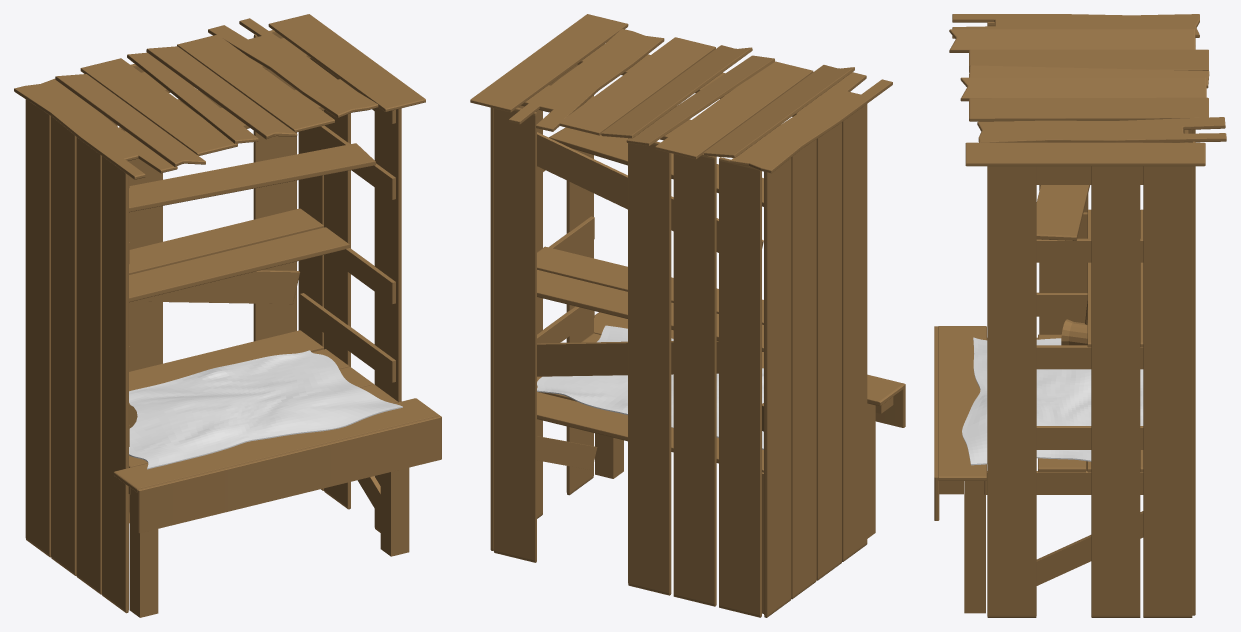
Rendered from Mesa_de_ferramentas.fbx.
3 renders of one model, left to right at view 1: azimuth 30°, elevation 25°; view 2: azimuth 150°, elevation 25°; view 3: azimuth 270°, elevation 25°, orthographic. The views are drawn at different scales.
Parts seen in each view (by area): view 1: Plane.052, Plane.019, Plane.003, Plane.057, Plane.056, Plane.055, Plane.077, Plane.058, Plane.043, Plane.018, Plane.036, Plane.034 (+18 smaller); view 2: Plane.041, Plane.001, Plane.042, Plane.075, Plane.057, Plane.056, Plane.055, Plane.003, Plane.036, Plane.034, Plane.032, Plane.035 (+21 smaller); view 3: Plane.058, Plane.059, Plane.060, Plane.052, Plane.036, Plane.018, Plane.035, Plane.034, Plane.031, Plane.054, Plane.032, Plane (+17 smaller).
Boxes of the visible parts, <box> form: Plane.052: <box>129,350,402,469</box>; Plane.019: <box>137,415,441,533</box>; Plane.003: <box>102,156,128,613</box>; Plane.057: <box>25,99,50,557</box>; Plane.056: <box>51,116,76,575</box>; Plane.055: <box>76,137,101,594</box>; Plane.077: <box>129,143,375,212</box>; Plane.058: <box>374,108,401,532</box>; Plane.043: <box>129,227,349,302</box>; Plane.018: <box>113,398,439,492</box>; Plane.036: <box>268,14,425,112</box>; Plane.034: <box>177,34,334,132</box>; Plane.041: <box>673,153,716,606</box>; Plane.001: <box>628,138,671,595</box>; Plane.042: <box>719,157,761,617</box>; Plane.075: <box>494,107,536,562</box>; Plane.057: <box>764,158,791,617</box>; Plane.056: <box>791,139,816,599</box>; Plane.055: <box>816,122,841,580</box>; Plane.003: <box>842,104,867,561</box>; Plane.036: <box>470,14,628,112</box>; Plane.034: <box>559,37,715,135</box>; Plane.032: <box>655,61,813,159</box>; Plane.035: <box>509,29,664,131</box>; Plane.058: <box>987,166,1036,617</box>; Plane.059: <box>1091,166,1140,617</box>; Plane.060: <box>1143,166,1192,617</box>; Plane.052: <box>962,337,1143,465</box>; Plane.036: <box>965,142,1205,166</box>; Plane.018: <box>938,326,986,480</box>; Plane.035: <box>977,117,1226,142</box>; Plane.034: <box>969,97,1208,121</box>; Plane.031: <box>949,29,1195,52</box>; Plane.054: <box>960,77,1206,101</box>; Plane.032: <box>969,49,1208,72</box>; Plane: <box>952,14,1199,38</box>.
Bounding box in the file's own units: 48.86 × 70.14 × 39.85.
